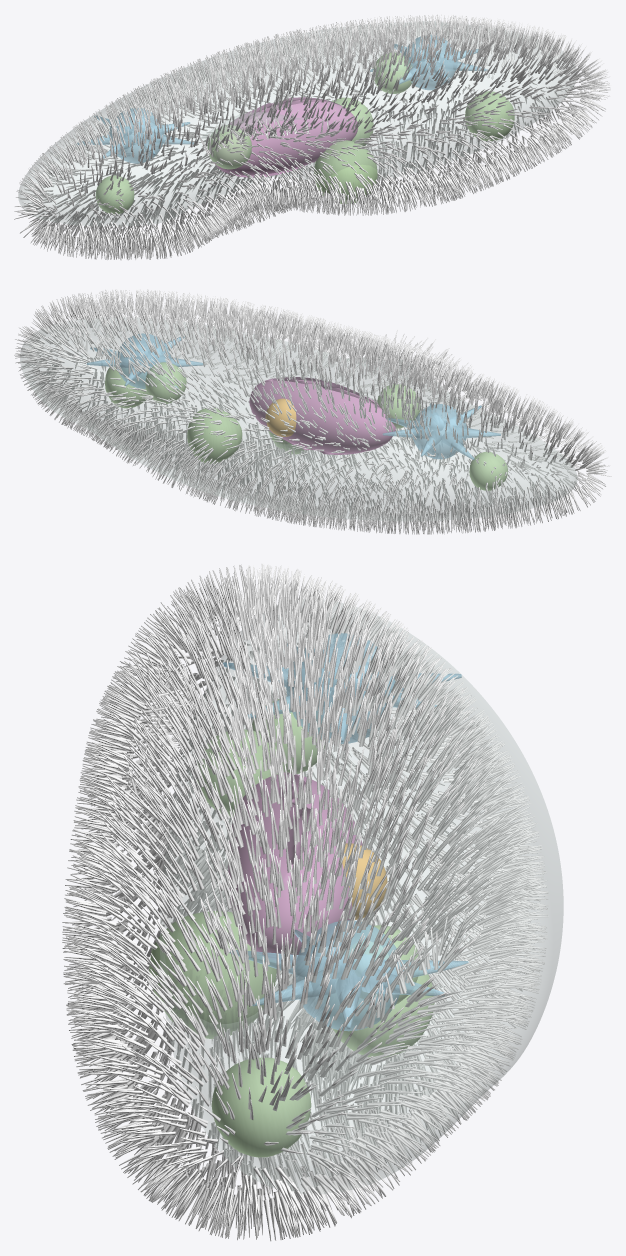
File: trung_giay.glb
3 views of the same model, one above another, from view 1: azimuth 30°, elevation 25°; view 2: azimuth 150°, elevation 25°; view 3: azimuth 270°, elevation 25° (orthographic). The views are drawn at different scales.
Parts seen in each view (by area): view 1: Cilia_Mesh, Paramecium_Body, Macronucleus, FoodVacuole_3, ContractileVacuole_Posterior, ContractileVacuole_Anterior, FoodVacuole_5, FoodVacuole_2, FoodVacuole_4, FoodVacuole_6, FoodVacuole_1; view 2: Cilia_Mesh, Paramecium_Body, Macronucleus, ContractileVacuole_Posterior, FoodVacuole_1, ContractileVacuole_Anterior, FoodVacuole_4, FoodVacuole_6, FoodVacuole_5, Micronucleus, FoodVacuole_2; view 3: Cilia_Mesh, Paramecium_Body, Macronucleus, ContractileVacuole_Anterior, FoodVacuole_5, FoodVacuole_3, ContractileVacuole_Posterior, FoodVacuole_1, FoodVacuole_2, Micronucleus, FoodVacuole_4.
Part boxes in pixels (x1,y1,x2,y2): Cilia_Mesh: [14, 14, 611, 260]; Paramecium_Body: [18, 21, 576, 225]; Macronucleus: [215, 97, 357, 177]; FoodVacuole_3: [314, 140, 377, 203]; ContractileVacuole_Posterior: [77, 108, 193, 163]; ContractileVacuole_Anterior: [370, 35, 487, 90]; FoodVacuole_5: [465, 91, 514, 140]; FoodVacuole_2: [207, 125, 251, 169]; FoodVacuole_4: [95, 175, 134, 214]; FoodVacuole_6: [373, 52, 412, 93]; FoodVacuole_1: [332, 97, 373, 145]; Cilia_Mesh: [14, 289, 611, 534]; Paramecium_Body: [20, 317, 577, 520]; Macronucleus: [249, 377, 396, 454]; ContractileVacuole_Posterior: [382, 403, 500, 459]; FoodVacuole_1: [187, 407, 242, 463]; ContractileVacuole_Anterior: [87, 333, 203, 389]; FoodVacuole_4: [469, 451, 507, 490]; FoodVacuole_6: [145, 362, 186, 403]; FoodVacuole_5: [105, 367, 148, 408]; Micronucleus: [265, 398, 296, 436]; FoodVacuole_2: [377, 384, 420, 428]; Cilia_Mesh: [62, 563, 548, 1241]; Paramecium_Body: [160, 599, 563, 1193]; Macronucleus: [228, 772, 362, 954]; ContractileVacuole_Anterior: [229, 920, 468, 1031]; FoodVacuole_5: [211, 1057, 311, 1157]; FoodVacuole_3: [149, 911, 276, 1038]; ContractileVacuole_Posterior: [223, 633, 461, 743]; FoodVacuole_1: [332, 974, 434, 1058]; FoodVacuole_2: [197, 729, 284, 817]; Micronucleus: [342, 843, 387, 919]; FoodVacuole_4: [252, 699, 324, 774].
Size of the model in its own units: 9.74 by 2.75 by 3.62.
